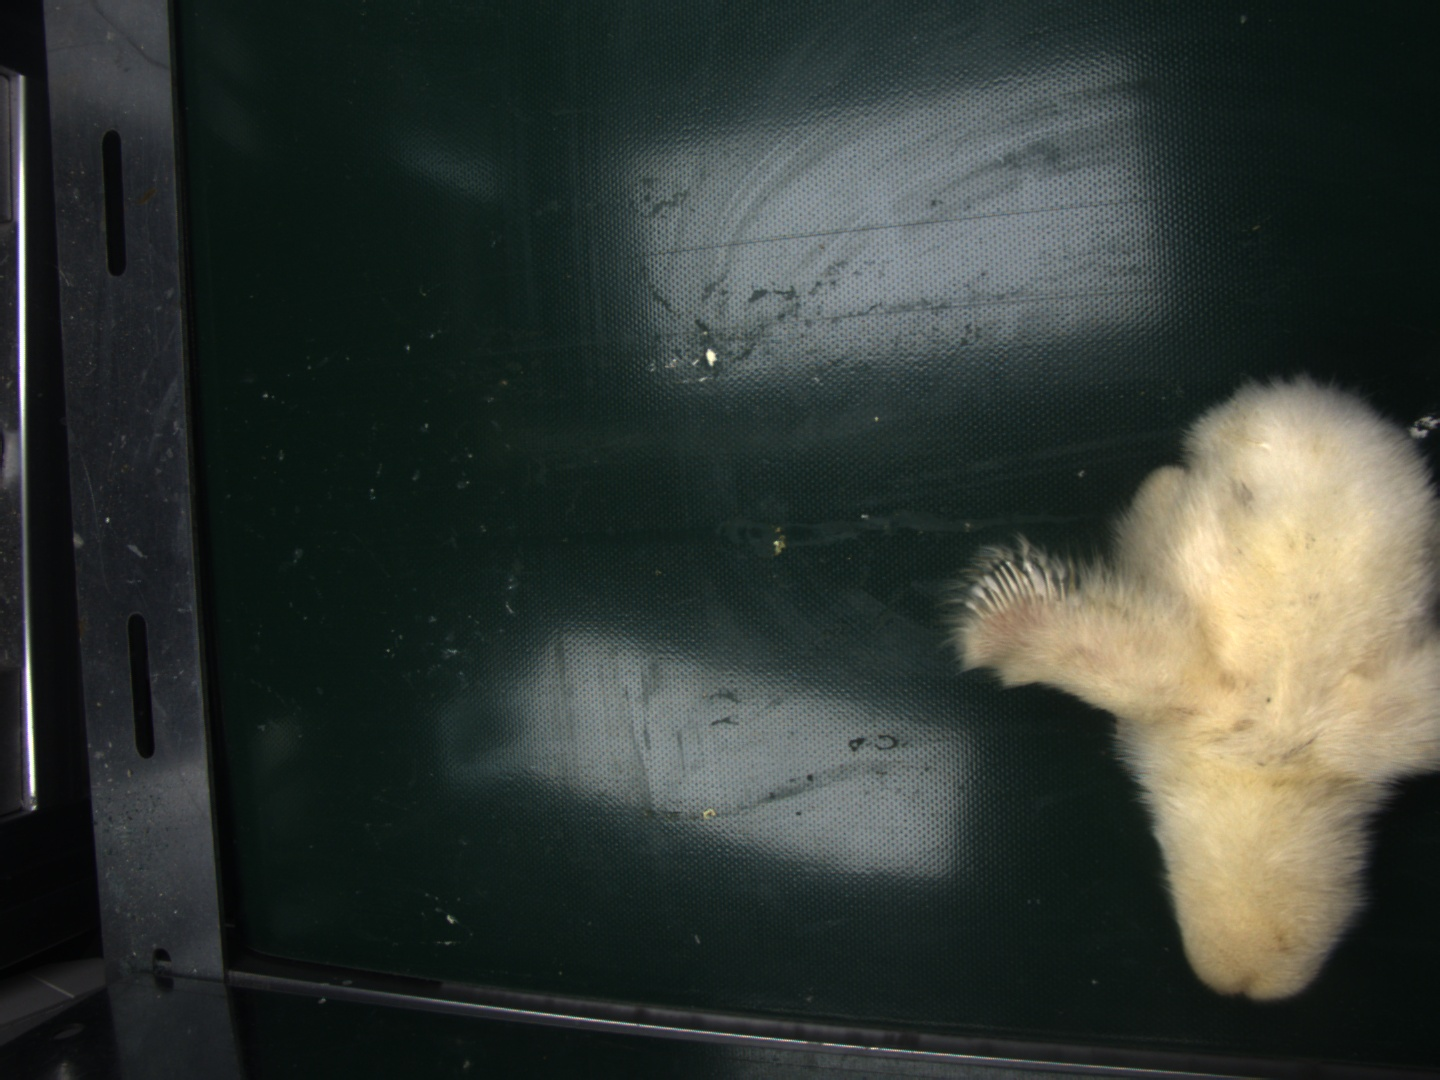male: (966, 551, 1053, 623)
